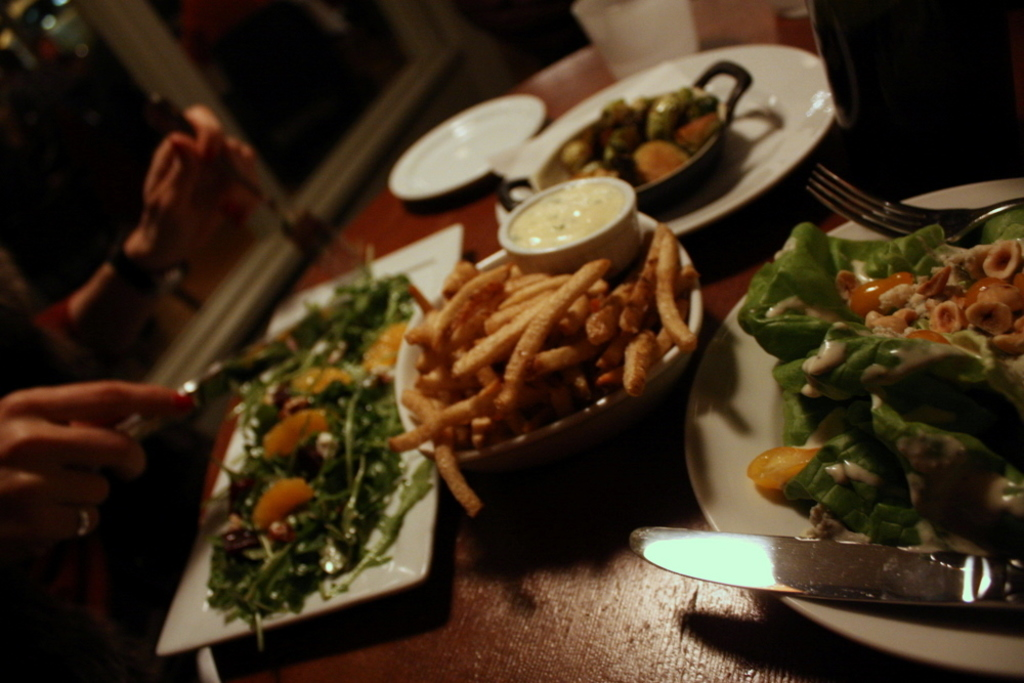French fries: (390, 241, 702, 465)
